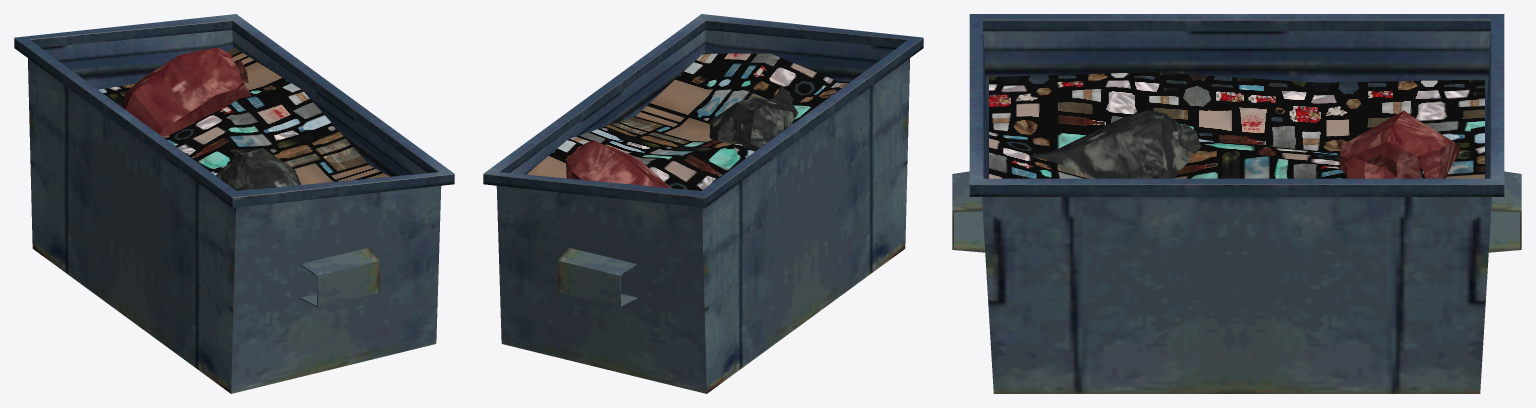
Rendered from Urban_DumpsterDiagonalFullNoLidBlue_Model.fbx.
3 views of the same model, side by side, from view 1: azimuth 30°, elevation 25°; view 2: azimuth 150°, elevation 25°; view 3: azimuth 270°, elevation 25° (orthographic). The views are drawn at different scales.
Parts seen in each view (by area): view 1: Urban_DumpsterDiagonalFullNoLidBlue_Mesh; view 2: Urban_DumpsterDiagonalFullNoLidBlue_Mesh; view 3: Urban_DumpsterDiagonalFullNoLidBlue_Mesh.
Boxes of the visible parts, x1=… form: Urban_DumpsterDiagonalFullNoLidBlue_Mesh: x1=14, y1=14, x2=454, y2=393; Urban_DumpsterDiagonalFullNoLidBlue_Mesh: x1=483, y1=14, x2=923, y2=393; Urban_DumpsterDiagonalFullNoLidBlue_Mesh: x1=952, y1=14, x2=1521, y2=393.
Size of the model in its own units: 2.03 by 1.8 by 3.67.
